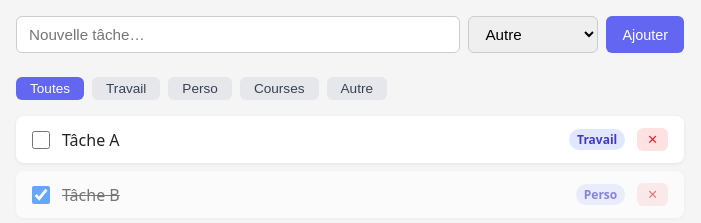
Test: TaskList — avec appels API mockés › supprime une tâche de la liste
Expected: the text "Tâche A" is shown, top-left (62, 128), bottom-right (120, 150)
Click the button named "supprimer". click: (653, 140)
box: top-left (637, 128), bottom-right (668, 151)
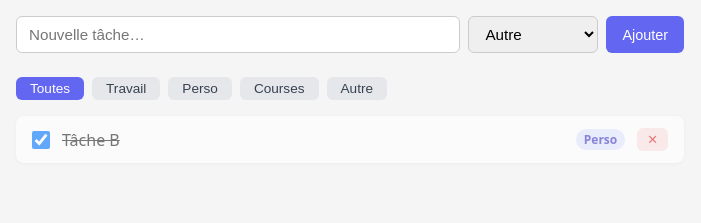
Expected: the text "Tâche A" is gone
